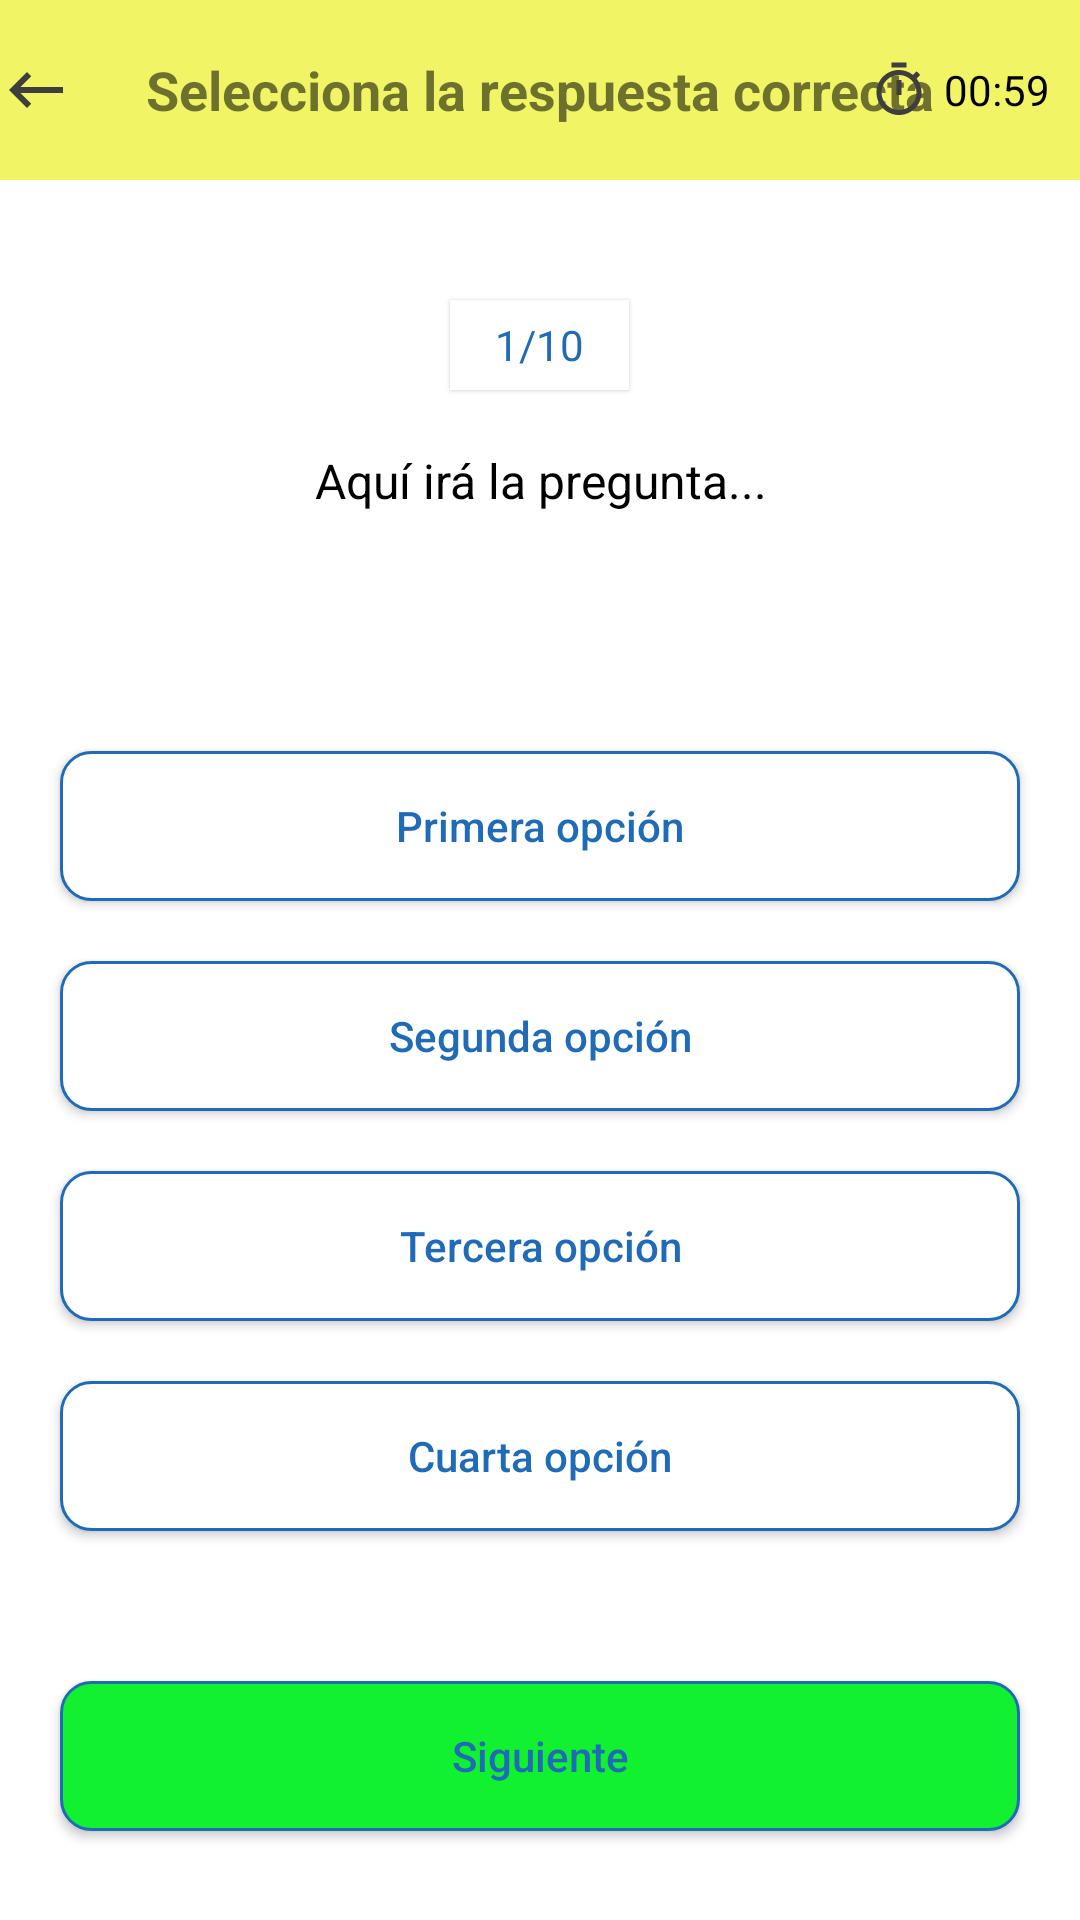

Icons on this 1080*1920 Android screen, each with the point to tap as (x,y):
back: (36,90)
